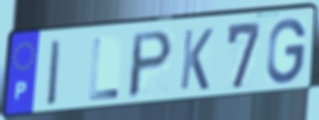7: (225, 20, 263, 91)
G: (264, 17, 308, 87)
I: (46, 37, 63, 109)
K: (178, 26, 216, 93)
L: (87, 37, 120, 103)
P: (125, 28, 176, 102)
